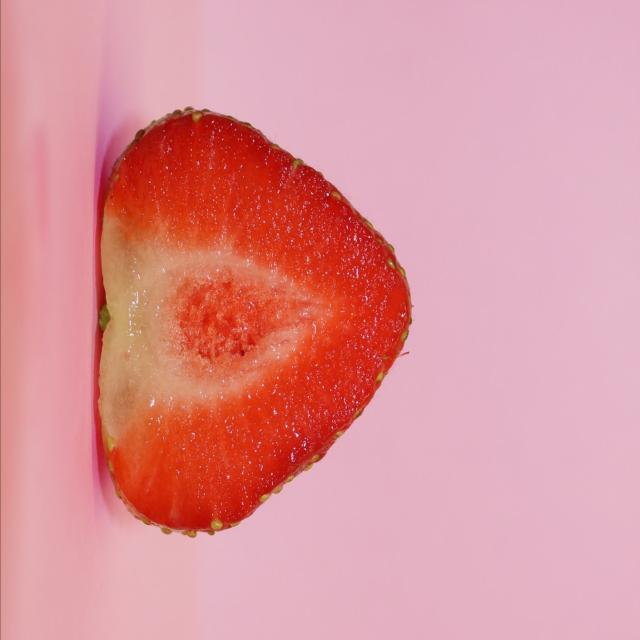strawberry: (57, 77, 436, 553)
